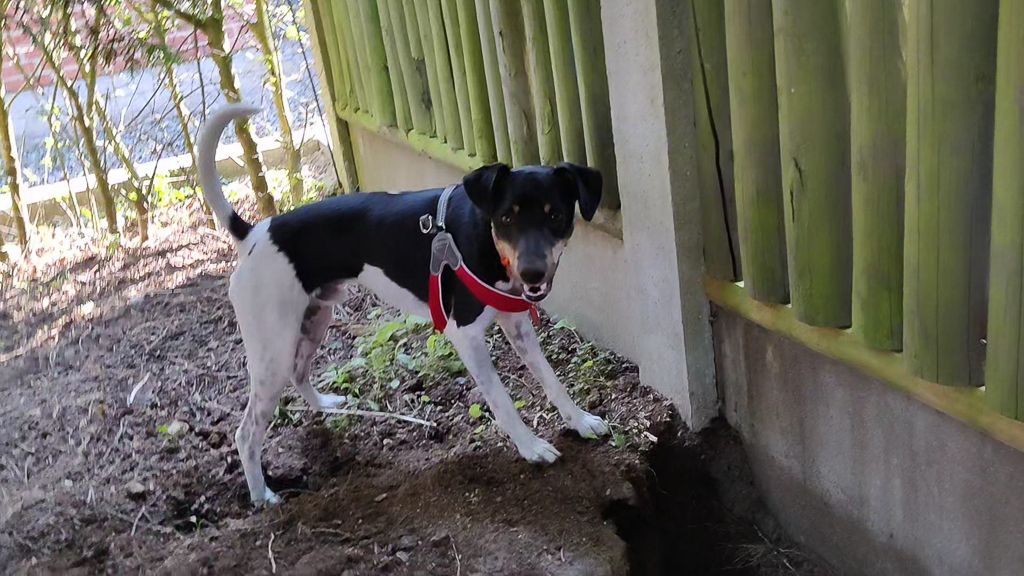Dog: (180, 92, 646, 518)
